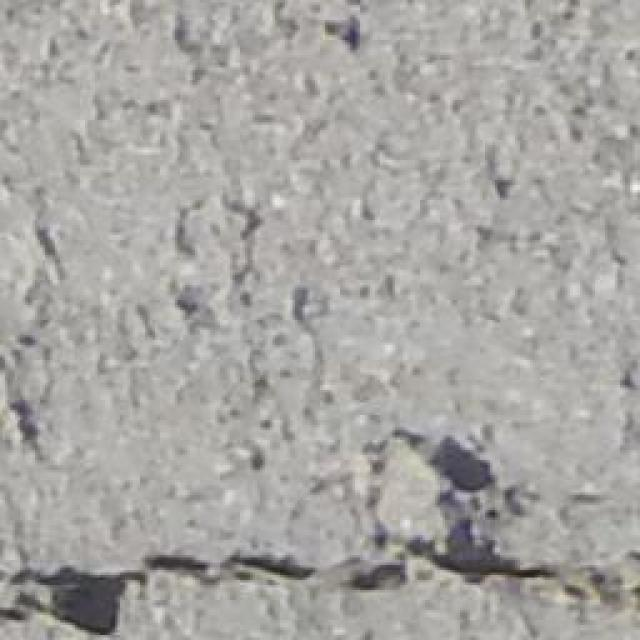concrete-crack: (0, 413, 640, 640)
